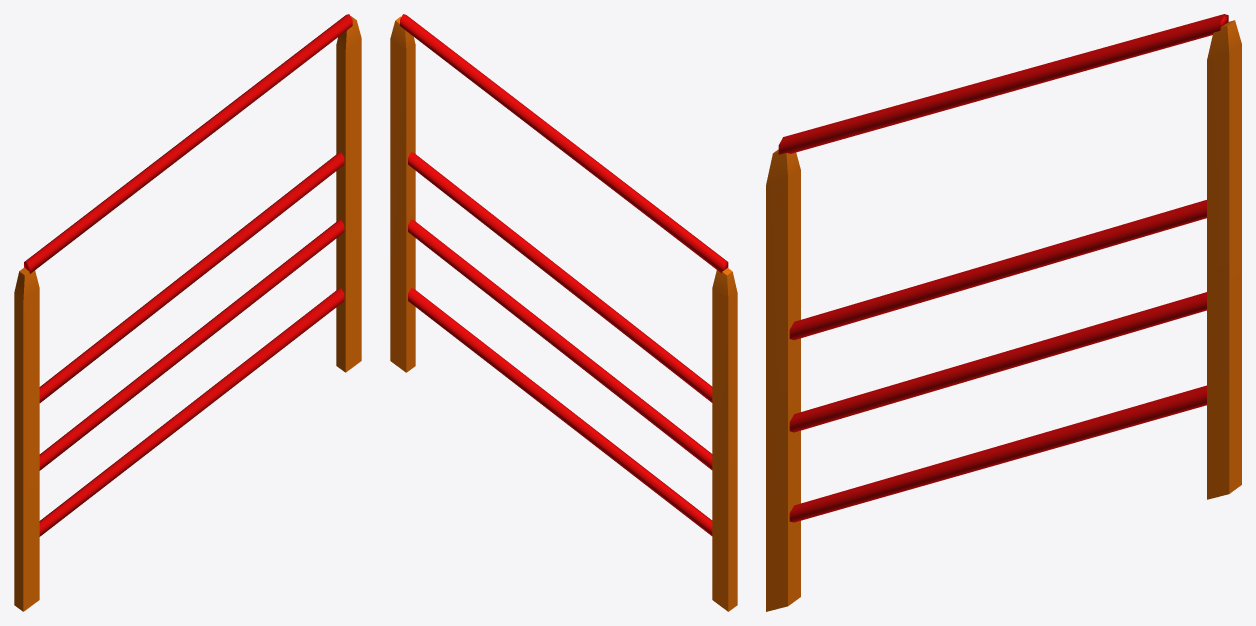
File: RailingSloped.fbx
3 views of the same model, side by side, from view 1: azimuth 30°, elevation 25°; view 2: azimuth 150°, elevation 25°; view 3: azimuth 330°, elevation 25° (orthographic). The views are drawn at different scales.
Visible parts, largest first — view 1: polySurface103; view 2: polySurface103; view 3: polySurface103.
Part boxes in pixels (x1,y1,x2,y2): polySurface103: [14, 14, 361, 611]; polySurface103: [390, 14, 737, 611]; polySurface103: [766, 14, 1241, 611].
Bounding box in the file's own units: 1.05 × 1.52 × 0.05.
